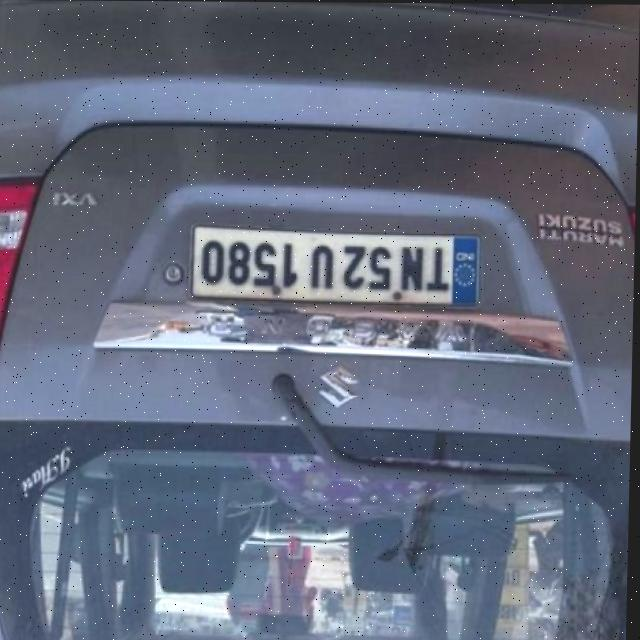plate: (190, 224, 485, 311)
